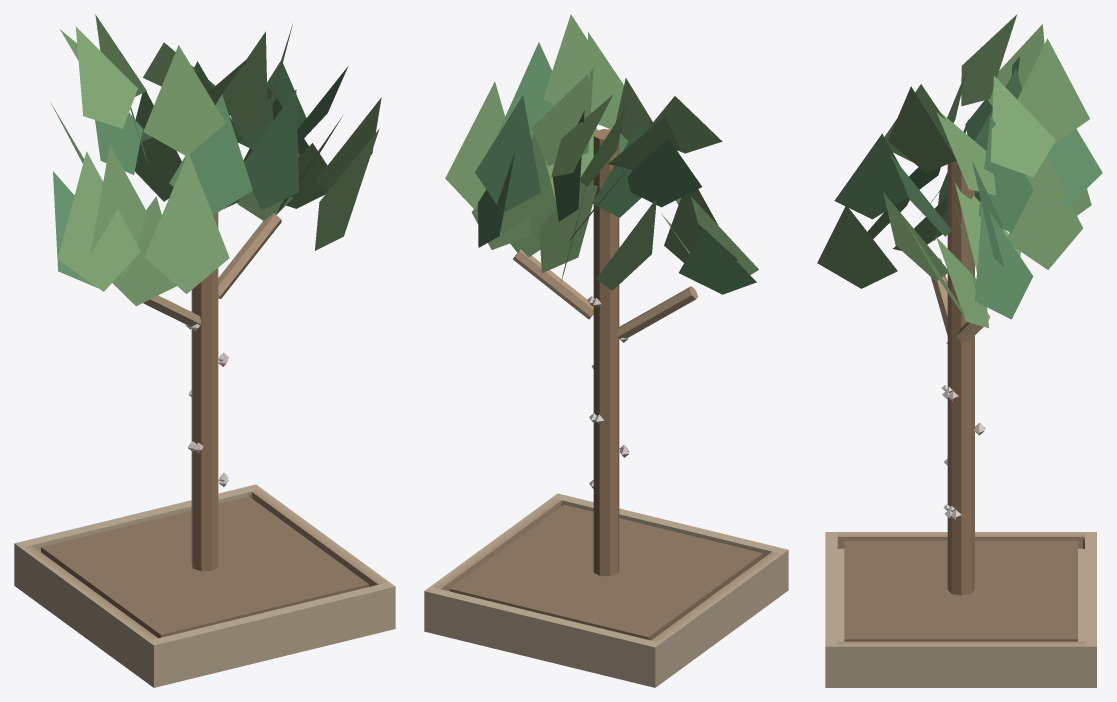
File: cacao_floracion_near.glb
3 renders of one model, left to right at view 1: azimuth 30°, elevation 25°; view 2: azimuth 150°, elevation 25°; view 3: azimuth 270°, elevation 25°, orthographic. The views are drawn at different scales.
Visible parts, largest first — view 1: model; view 2: model; view 3: model.
Boxes of the visible parts, bbox=[...] form: model: bbox=[14, 14, 395, 687]; model: bbox=[424, 14, 788, 687]; model: bbox=[817, 15, 1102, 687].
Size of the model in its own units: 1.33 by 2.33 by 1.05.
